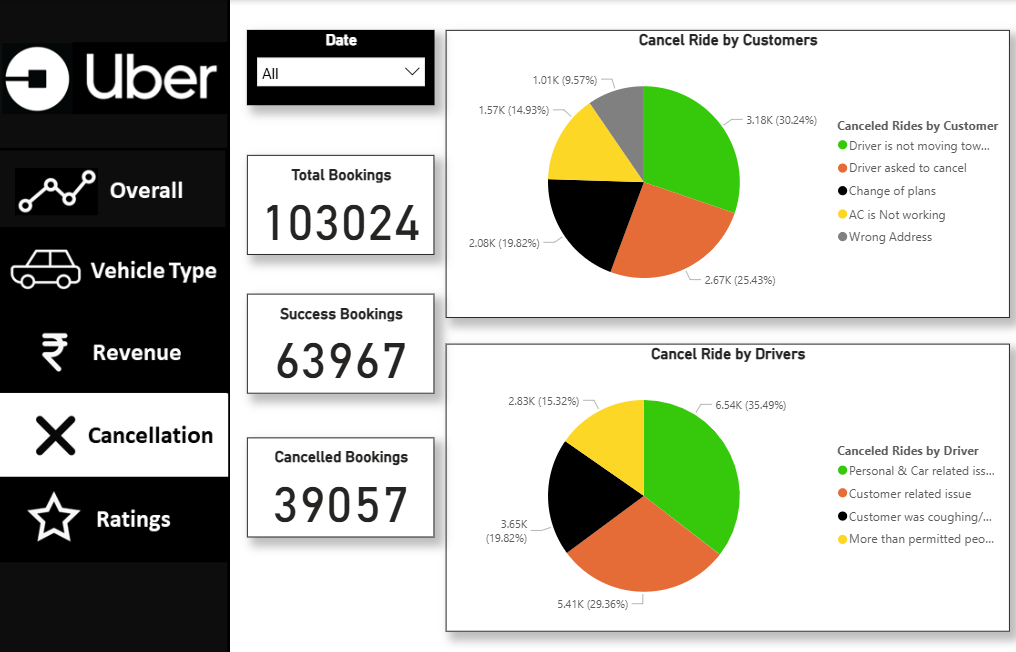

The page's visual inventory and layout, read from the dashboard file:
{"tool":"powerbi","page":{"name":"Cancellation","canvas":[1280,720],"ordinal":3},"visuals":[{"type":"pieChart","title":"Cancel Ride by Customers","fields":{"Category":["July.Canceled_Rides_by_Customer"],"Y":["CountNonNull(July.Canceled_Rides_by_Customer)"]},"box":[651.8,32.9,618.9,315.6],"z":0},{"type":"pieChart","title":"Cancel Ride by Drivers","fields":{"Category":["July.Canceled_Rides_by_Driver"],"Y":["CountNonNull(July.Canceled_Rides_by_Driver)"]},"box":[651.8,377.4,618.9,315.6],"z":1000},{"type":"slicer","title":"Date","fields":{"Values":["July.Date"]},"box":[433.6,32.9,205.8,82.3],"z":2000},{"type":"card","title":"Total Bookings","fields":{"Values":["CountNonNull(July.Booking_ID)"]},"box":[433.6,170.2,205.8,109.8],"z":3000},{"type":"card","title":"Cancelled Bookings","fields":{"Values":["CountNonNull(July.Booking_ID)"]},"box":[433.6,480.3,205.8,109.8],"z":4000},{"type":"card","title":"Success Bookings","fields":{"Values":["CountNonNull(July.Booking_ID)"]},"box":[433.6,322.5,205.8,109.8],"z":5000}]}

Visuals, with their boxes on the page's 1280x720 design canvas (x1, y1, x2, y2). These are canvas units, not pixel positions in the 1016x652 screenshot, which may show the page scaled, cropped or inside an application window:
"Cancel Ride by Customers" pieChart: (652, 33, 1271, 348)
"Cancel Ride by Drivers" pieChart: (652, 377, 1271, 693)
"Date" slicer: (434, 33, 639, 115)
"Total Bookings" card: (434, 170, 639, 280)
"Cancelled Bookings" card: (434, 480, 639, 590)
"Success Bookings" card: (434, 322, 639, 432)
